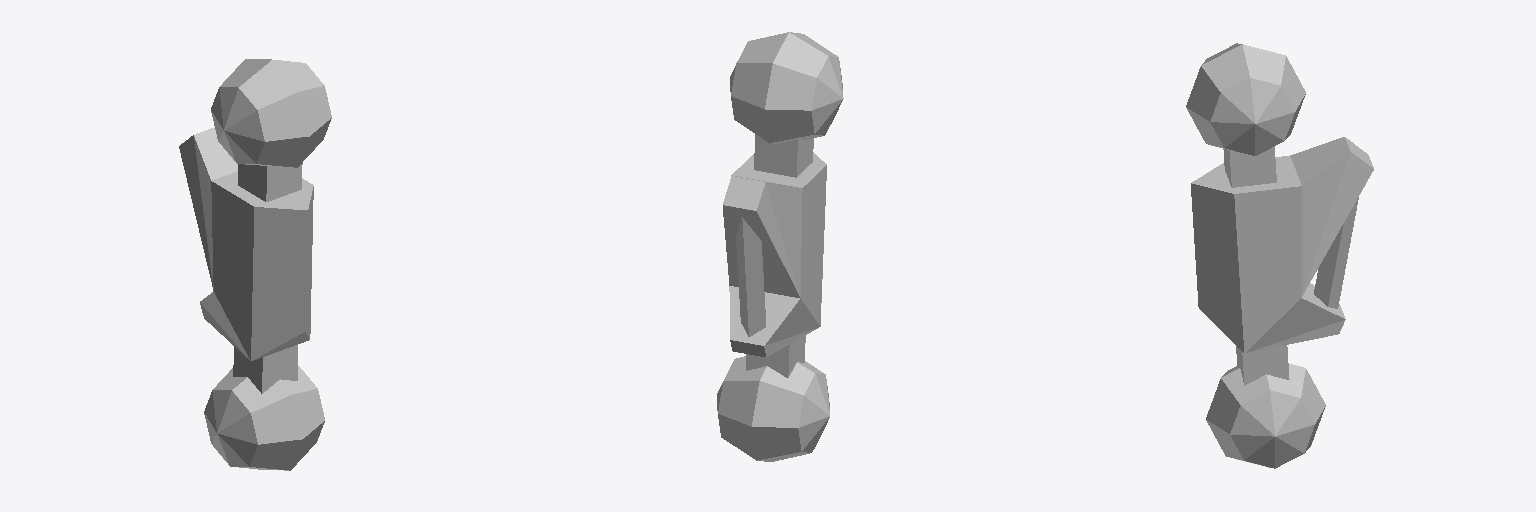
The model's file is piraka leg u.obj.
3 views of the same model, side by side, from view 1: azimuth 30°, elevation 25°; view 2: azimuth 150°, elevation 25°; view 3: azimuth 270°, elevation 25° (orthographic).
Parts seen in each view (by area): view 1: Reidak.reidak.smd.mesh_1.002; view 2: Reidak.reidak.smd.mesh_1.002; view 3: Reidak.reidak.smd.mesh_1.002.
Part boxes in pixels (x1,y1,x2,y2): Reidak.reidak.smd.mesh_1.002: (179, 59, 331, 470); Reidak.reidak.smd.mesh_1.002: (717, 32, 843, 461); Reidak.reidak.smd.mesh_1.002: (1186, 43, 1373, 468).
Size of the model in its own units: 0.9522 by 3.56 by 1.44.